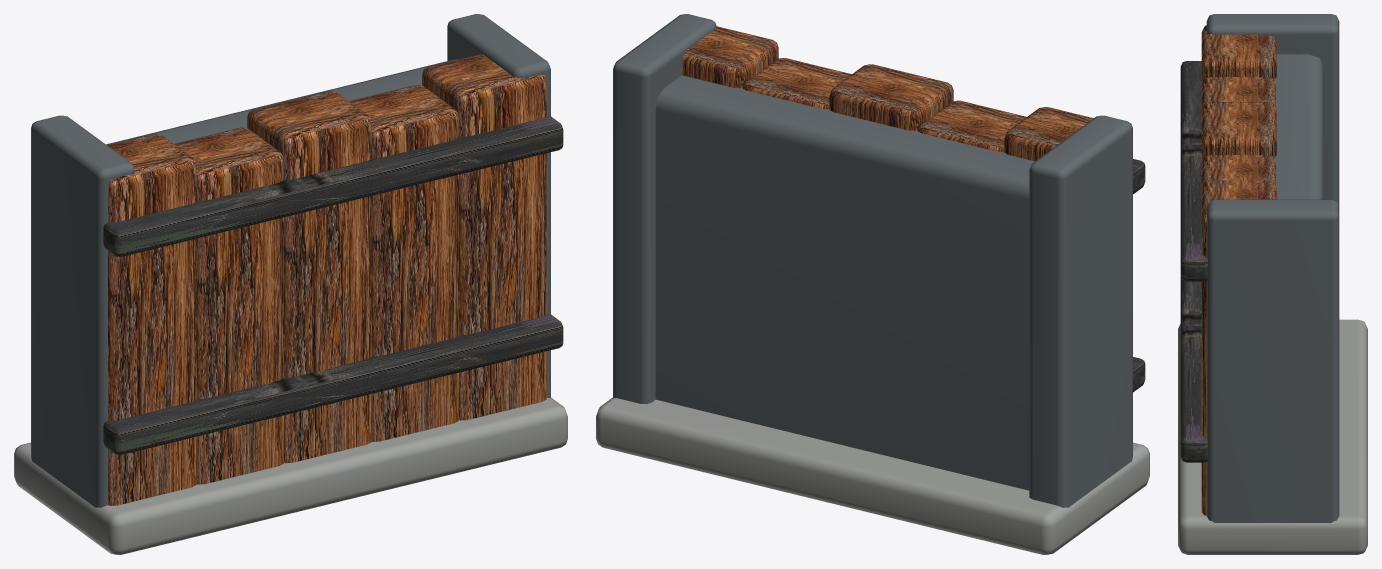
Rendered from wall_l01-2.glb.
3 renders of one model, left to right at view 1: azimuth 30°, elevation 25°; view 2: azimuth 150°, elevation 25°; view 3: azimuth 270°, elevation 25°, orthographic. The views are drawn at different scales.
Parts seen in each view (by area): view 1: DZN_wall_L01; view 2: DZN_wall_L01; view 3: DZN_wall_L01.
Part boxes in pixels (x1=…): DZN_wall_L01: x1=14, y1=14, x2=567, y2=554; DZN_wall_L01: x1=596, y1=14, x2=1149, y2=554; DZN_wall_L01: x1=1178, y1=14, x2=1367, y2=554.
Size of the model in its own units: 1.94 by 1.52 by 0.76.
Materials: 5 (2 with a texture image).
